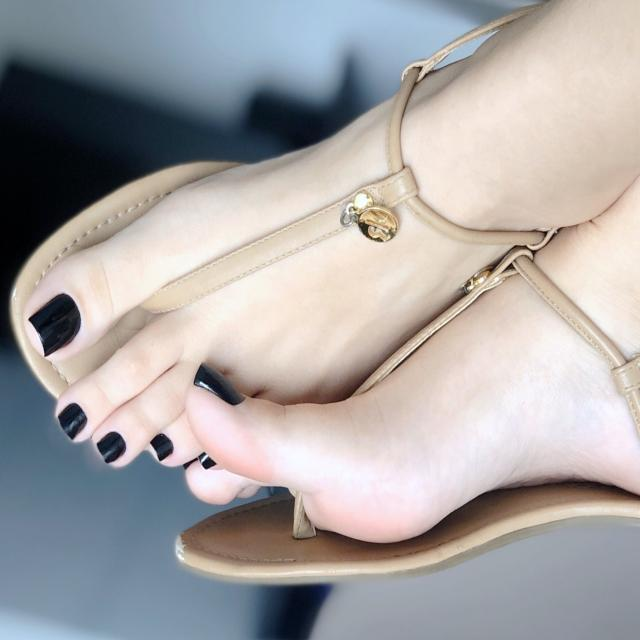Barefoots: (11, 57, 612, 496), (184, 208, 638, 542), (612, 222, 618, 226)
